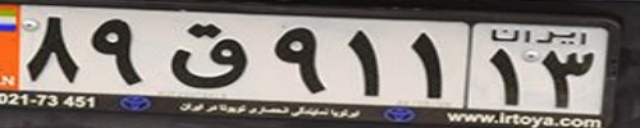1: (408, 31, 442, 99), (347, 29, 380, 97), (487, 47, 519, 106)
3: (538, 49, 593, 108)
8: (27, 15, 80, 83)
9: (275, 25, 326, 94), (91, 17, 140, 86)
ghaf: (167, 23, 249, 89)
